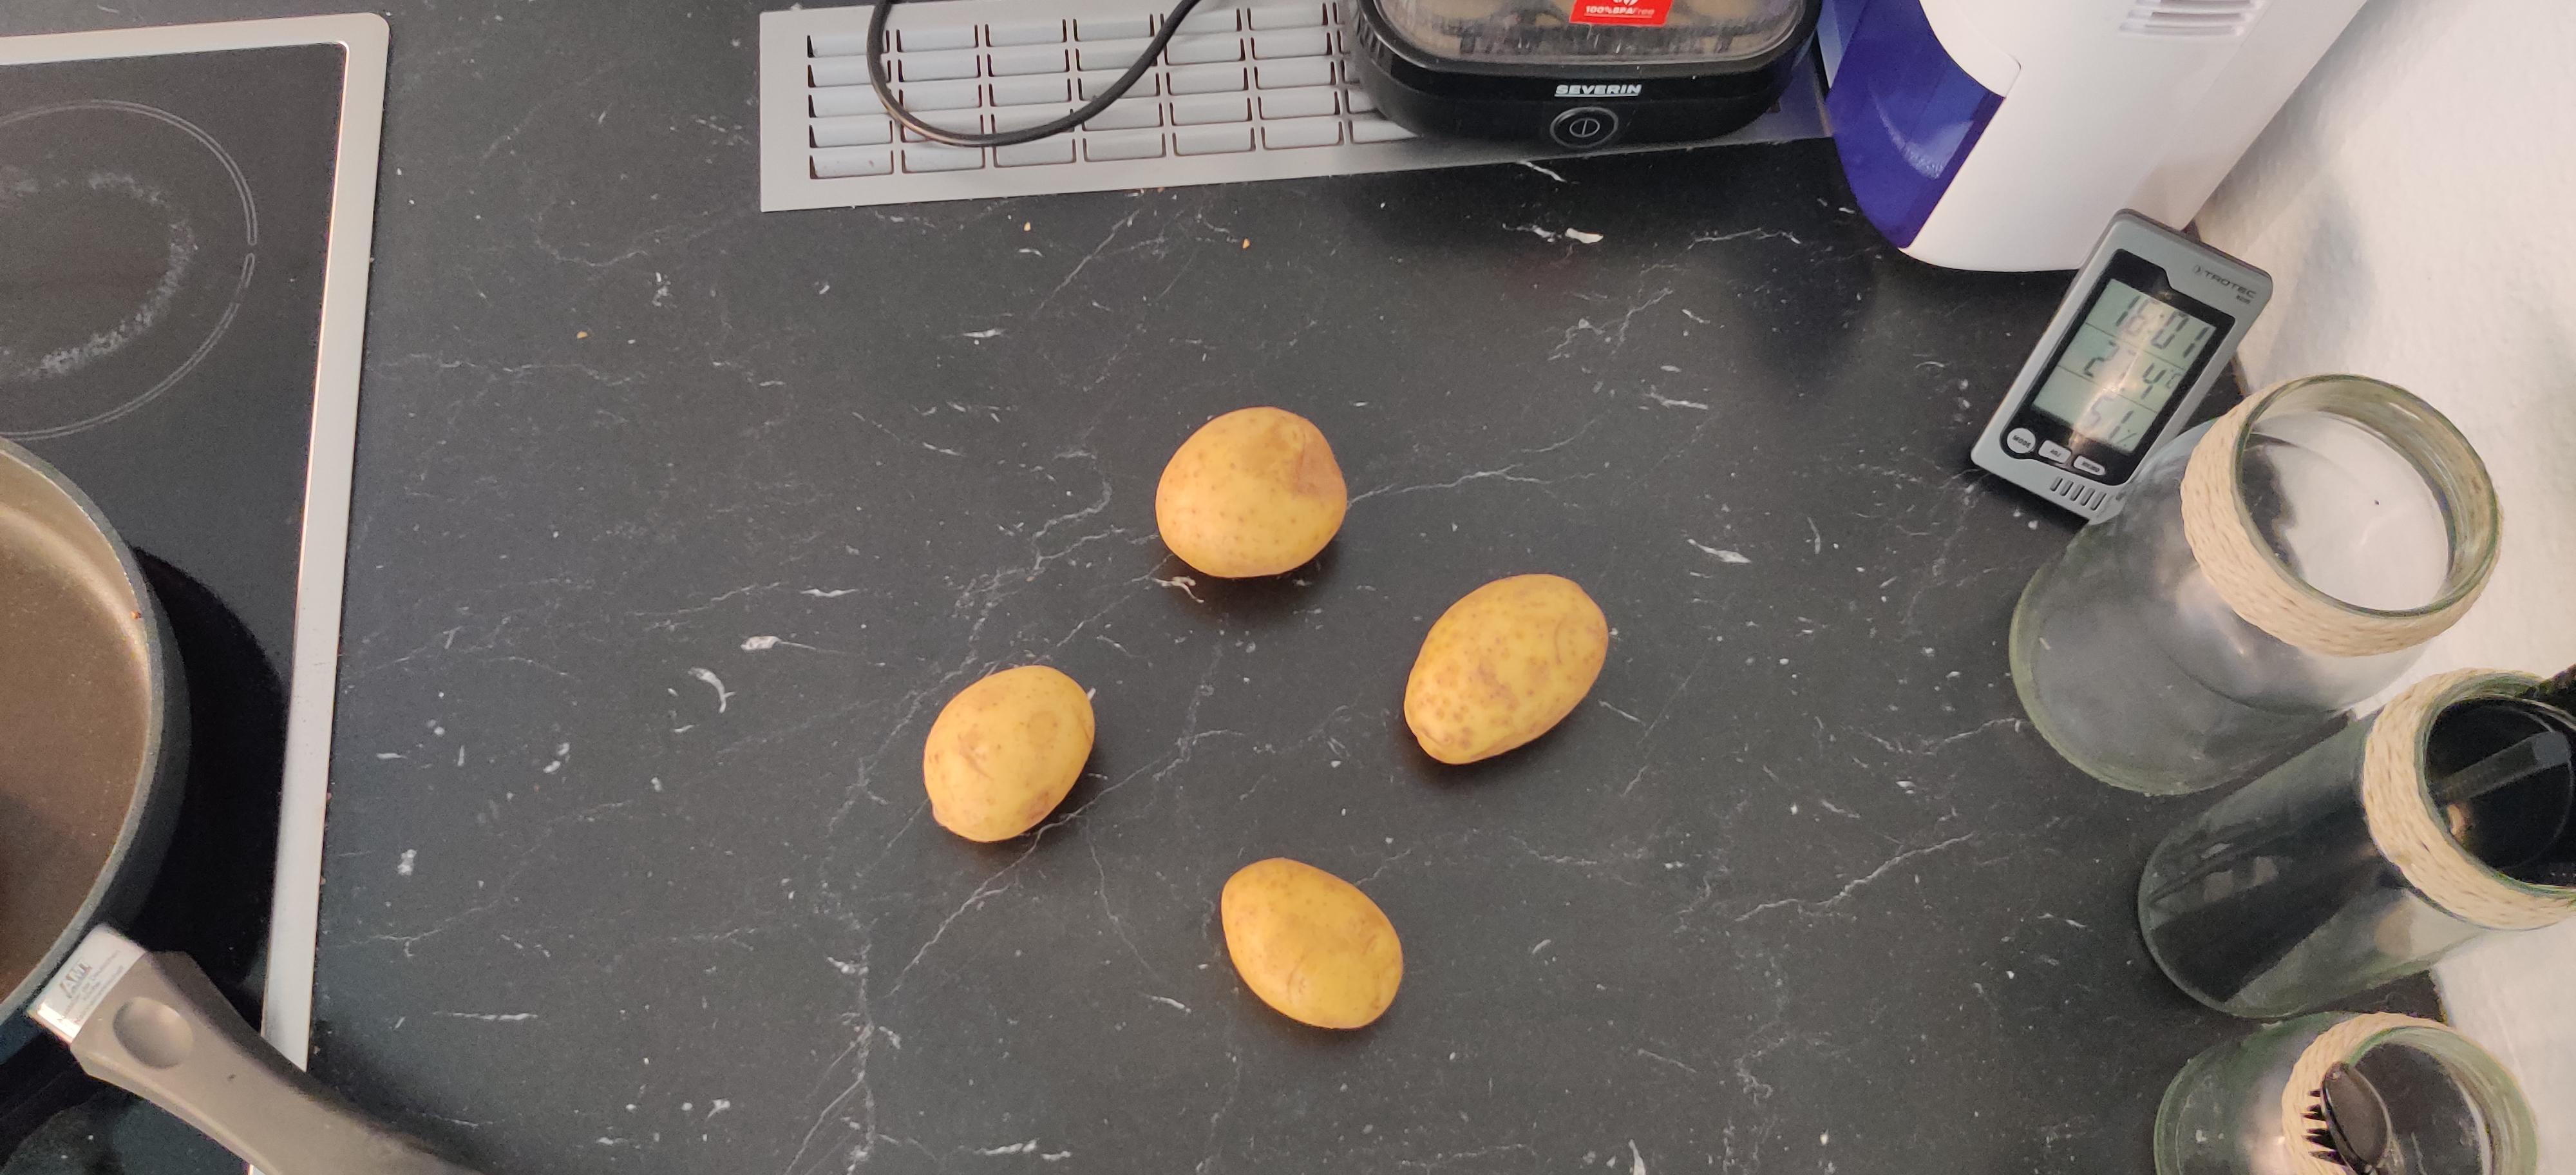Kartoffel: (1403, 572, 1610, 764), (1155, 408, 1347, 577), (1221, 853, 1405, 1029), (920, 666, 1094, 845)
